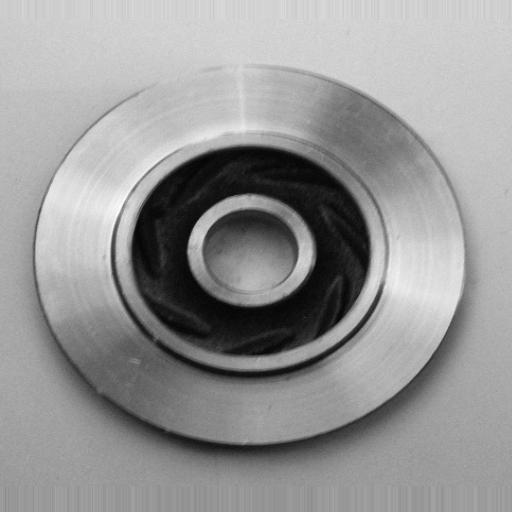scratch: (173, 116, 265, 157)
unpolished_casting: (34, 61, 470, 450)
